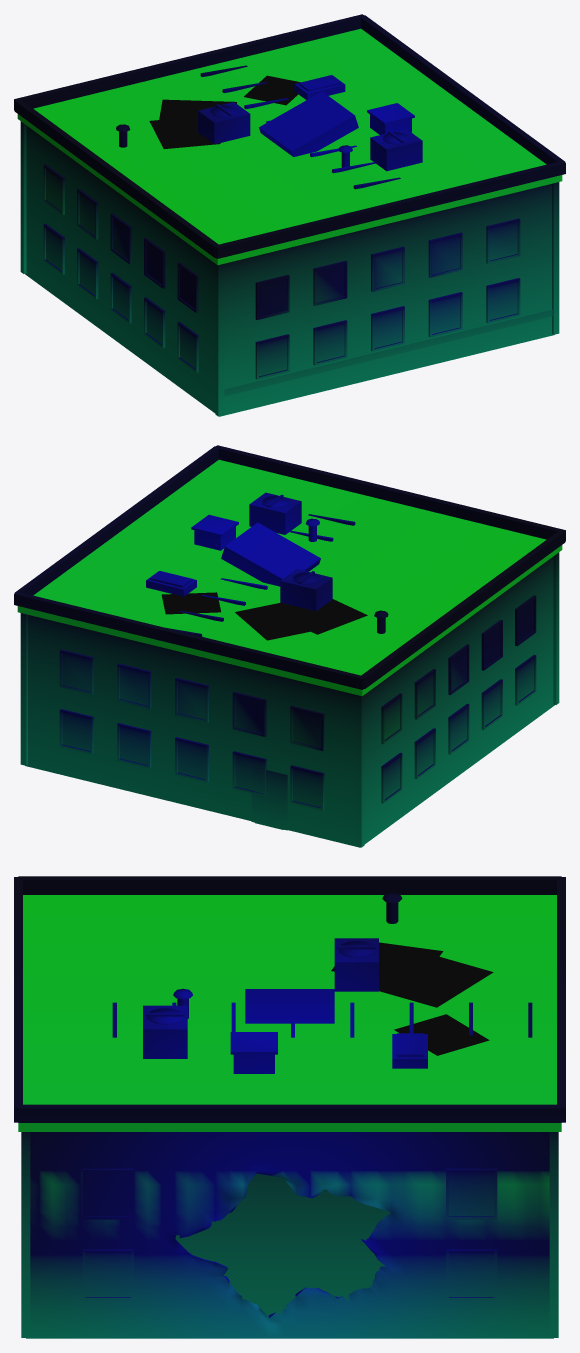
The model's file is city2storyb_damaged.glb.
3 views of the same model, one above another, from view 1: azimuth 30°, elevation 25°; view 2: azimuth 150°, elevation 25°; view 3: azimuth 270°, elevation 25° (orthographic). The views are drawn at different scales.
Parts seen in each view (by area): view 1: lod0; view 2: lod0; view 3: lod0.
Part boxes in pixels (bbox=[...]): lod0: bbox=[14, 14, 565, 416]; lod0: bbox=[14, 445, 565, 847]; lod0: bbox=[14, 876, 565, 1338].
Size of what is drawn, in the model's own units: 18.5 by 9.55 by 18.6.
